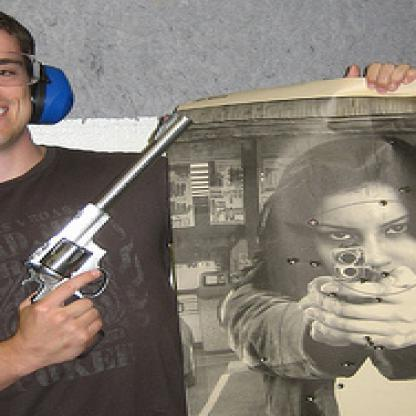gun: (9, 108, 203, 328), (319, 240, 398, 306)
